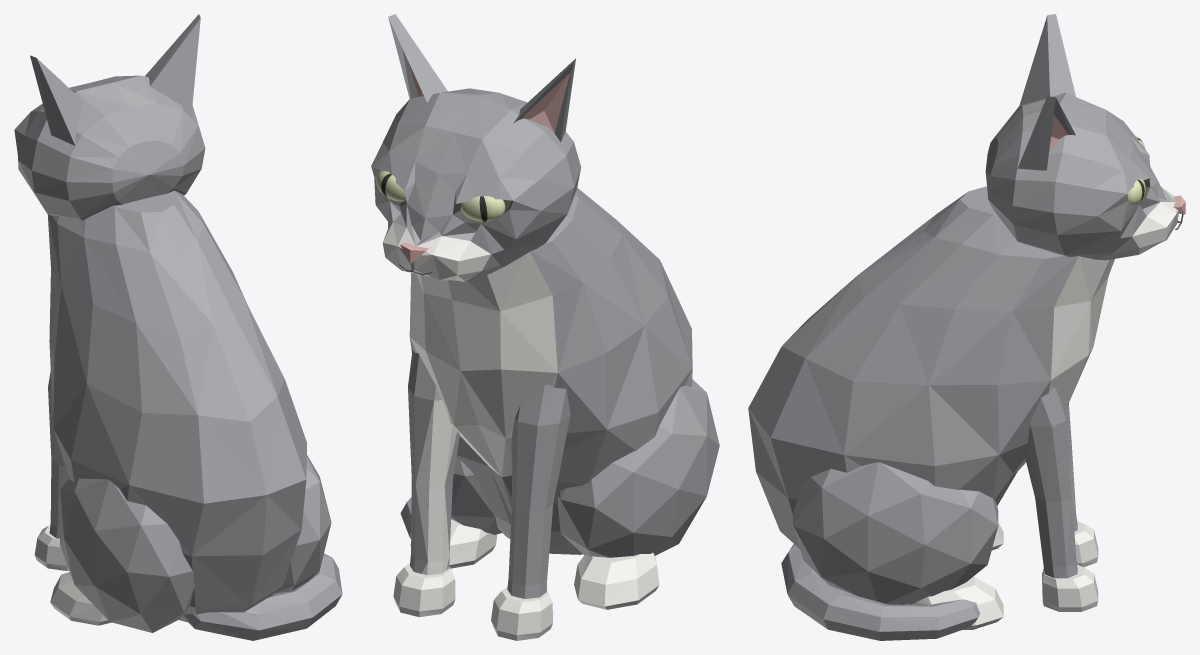
The model's file is cat_fit_r6.glb.
3 views of the same model, side by side, from view 1: azimuth 30°, elevation 25°; view 2: azimuth 150°, elevation 25°; view 3: azimuth 270°, elevation 25° (orthographic). The views are drawn at different scales.
Visible parts, largest first — view 1: Rounded_Torso_MASTER, Sculpted_Head_MASTER, Haunch_Right_MASTER, Curled_tail_MASTER, Haunch_Left_MASTER, Thick_Ear_Left_MASTER, Thick_Ear_Right_MASTER, Hind_paw_Right_MASTER, Foreleg_Right_MASTER, Front_paw_Right_MASTER; view 2: Rounded_Torso_MASTER, Sculpted_Head_MASTER, Haunch_Right_MASTER, Foreleg_Right_MASTER, Foreleg_Left_MASTER, Hind_paw_Right_MASTER, Front_paw_Left_MASTER, Front_paw_Right_MASTER, Thick_Ear_Right_MASTER, Haunch_Left_MASTER, Thick_Ear_Left_MASTER, Hind_paw_Left_MASTER (+2 smaller); view 3: Rounded_Torso_MASTER, Haunch_Left_MASTER, Sculpted_Head_MASTER, Curled_tail_MASTER, Foreleg_Left_MASTER, Thick_Ear_Right_MASTER, Thick_Ear_Left_MASTER, Front_paw_Left_MASTER, Hind_paw_Left_MASTER, Front_paw_Right_MASTER.
Boxes of the visible parts, x1=… form: Rounded_Torso_MASTER: x1=47, y1=190, x2=306, y2=622; Sculpted_Head_MASTER: x1=14, y1=75, x2=205, y2=220; Haunch_Right_MASTER: x1=60, y1=478, x2=194, y2=632; Curled_tail_MASTER: x1=182, y1=553, x2=342, y2=640; Haunch_Left_MASTER: x1=274, y1=455, x2=331, y2=593; Thick_Ear_Left_MASTER: x1=145, y1=14, x2=200, y2=117; Thick_Ear_Right_MASTER: x1=30, y1=55, x2=84, y2=145; Hind_paw_Right_MASTER: x1=50, y1=572, x2=111, y2=625; Foreleg_Right_MASTER: x1=48, y1=372, x2=68, y2=538; Front_paw_Right_MASTER: x1=34, y1=525, x2=69, y2=570; Rounded_Torso_MASTER: x1=409, y1=188, x2=692, y2=554; Sculpted_Head_MASTER: x1=371, y1=88, x2=580, y2=281; Haunch_Right_MASTER: x1=557, y1=379, x2=719, y2=557; Foreleg_Right_MASTER: x1=507, y1=384, x2=570, y2=598; Foreleg_Left_MASTER: x1=408, y1=350, x2=459, y2=575; Hind_paw_Right_MASTER: x1=574, y1=553, x2=659, y2=609; Front_paw_Left_MASTER: x1=393, y1=563, x2=455, y2=616; Front_paw_Right_MASTER: x1=491, y1=587, x2=552, y2=640; Thick_Ear_Right_MASTER: x1=513, y1=58, x2=575, y2=141; Haunch_Left_MASTER: x1=451, y1=457, x2=501, y2=534; Thick_Ear_Left_MASTER: x1=388, y1=14, x2=447, y2=102; Hind_paw_Left_MASTER: x1=410, y1=519, x2=497, y2=568; Rounded_Torso_MASTER: x1=748, y1=186, x2=1114, y2=548; Haunch_Left_MASTER: x1=793, y1=462, x2=998, y2=604; Sculpted_Head_MASTER: x1=985, y1=92, x2=1178, y2=260; Curled_tail_MASTER: x1=781, y1=544, x2=980, y2=640; Foreleg_Left_MASTER: x1=1023, y1=387, x2=1077, y2=578; Thick_Ear_Right_MASTER: x1=1019, y1=14, x2=1075, y2=105; Thick_Ear_Left_MASTER: x1=1017, y1=96, x2=1075, y2=170; Front_paw_Left_MASTER: x1=1042, y1=564, x2=1098, y2=611; Hind_paw_Left_MASTER: x1=908, y1=576, x2=1003, y2=629; Front_paw_Right_MASTER: x1=1074, y1=521, x2=1098, y2=567.
Size of the model in its own units: 0.0762 by 0.15 by 0.1134.
